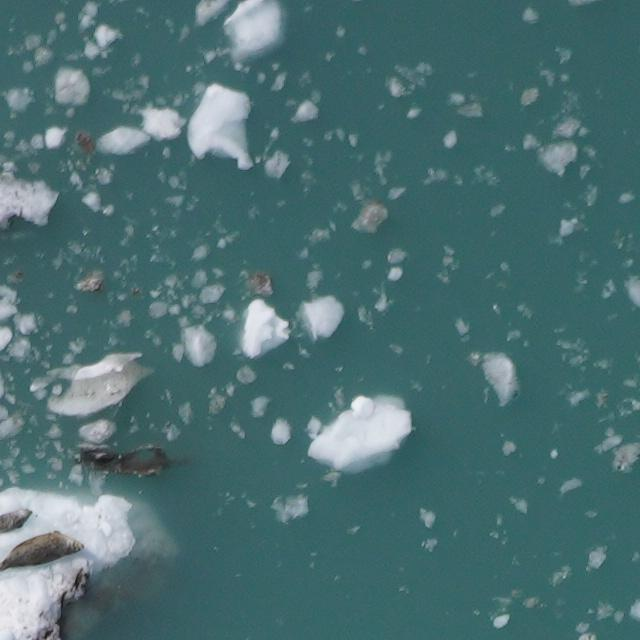seal: (0, 522, 88, 574), (0, 505, 36, 533)
